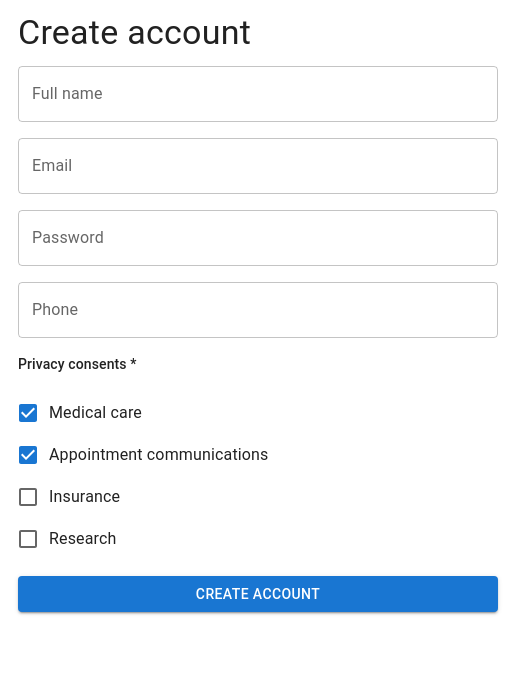
Test: Register consent flow › blocks submit without Medical Care consent
In the field labelled "Full name": (258, 94) [18, 66, 498, 122], type "Test User"
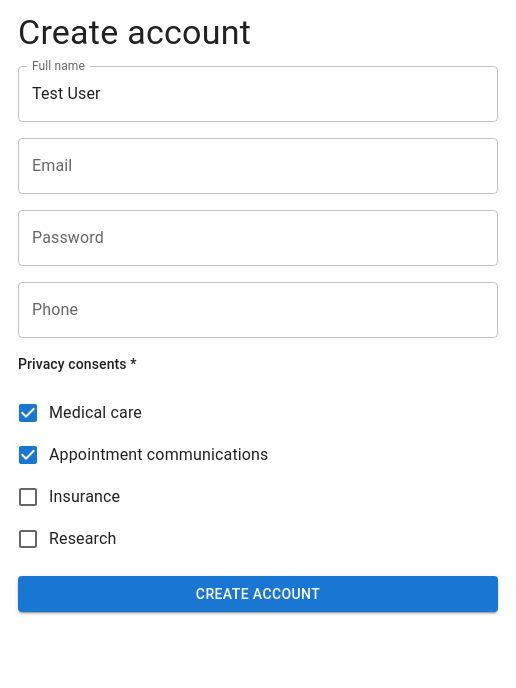
In the field labelled "Email": (258, 166) [18, 138, 498, 194], type "t@example.test"
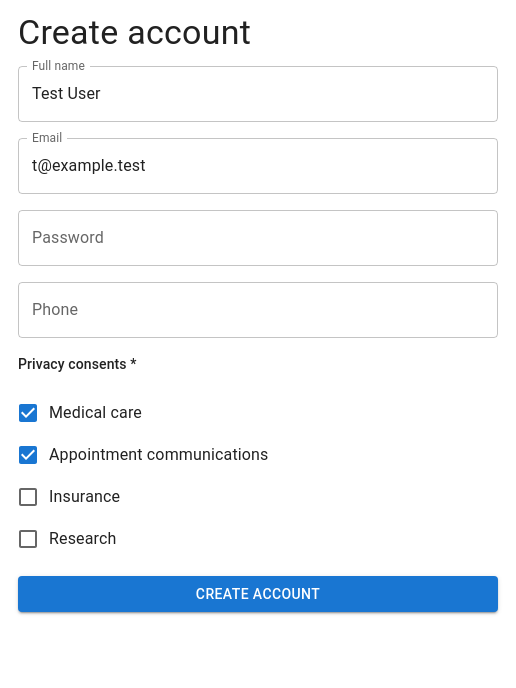
In the password field labelled "Password": (258, 238) [18, 210, 498, 266], type "Test123!Pass"
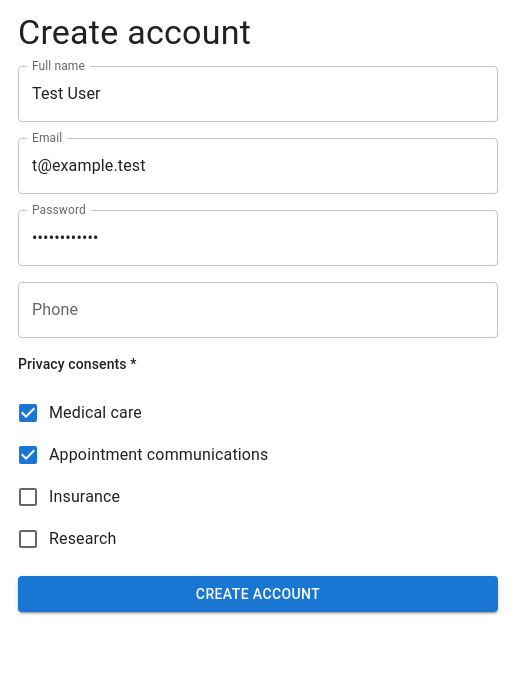
In the field labelled "Phone": (258, 310) [18, 282, 498, 338], type "+91-9000000001"
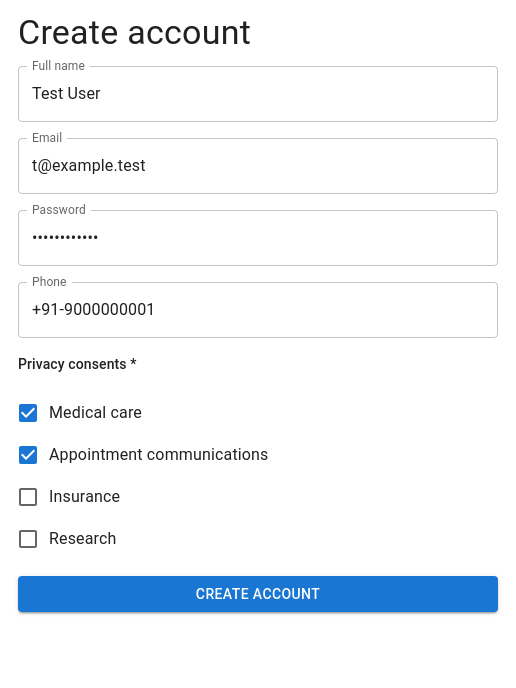
Click the checkbox labelled "Medical care": (79, 413) [16, 401, 142, 425]
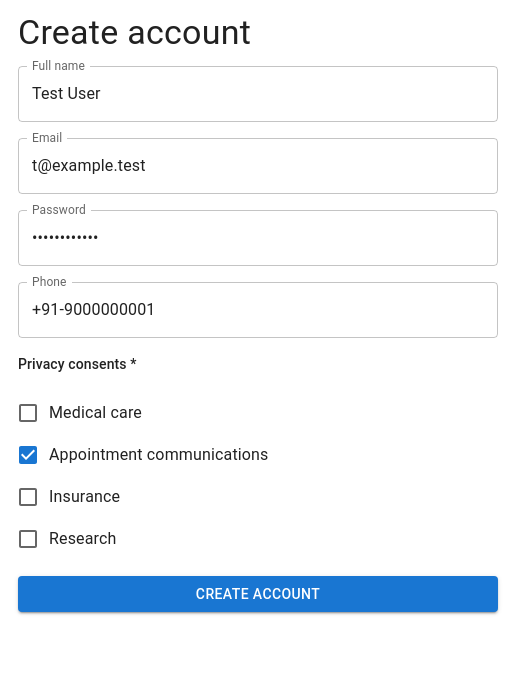
Click the button "Create account": (258, 594) [18, 576, 498, 612]
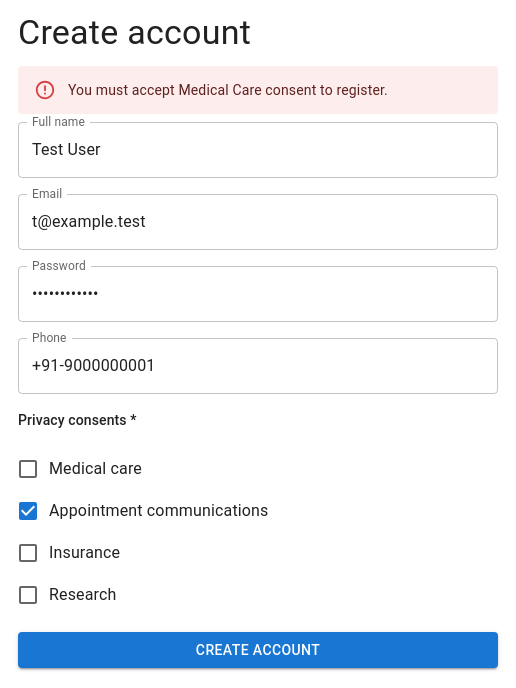
Expected: the text "You must accept Medical Care consent to register." is shown, [68, 82, 388, 98]
